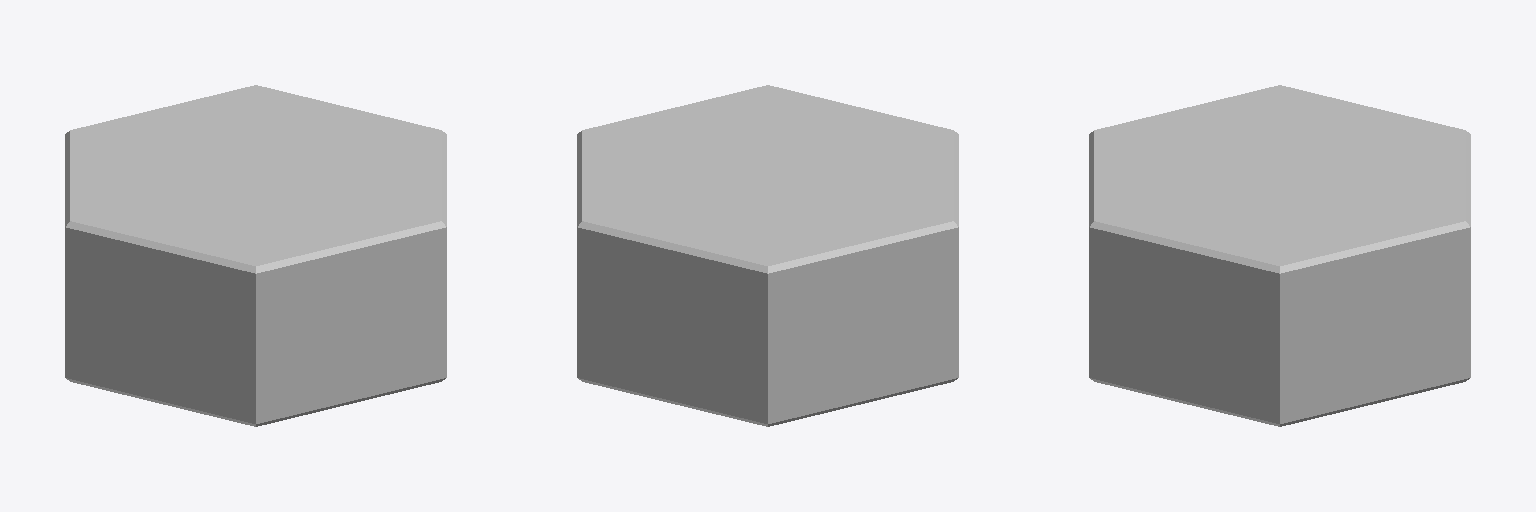
The model's file is Tile00.obj.
3 renders of one model, left to right at view 1: azimuth 30°, elevation 25°; view 2: azimuth 150°, elevation 25°; view 3: azimuth 270°, elevation 25°, orthographic.
Parts seen in each view (by area): view 1: mesh01; view 2: mesh01; view 3: mesh01.
Boxes of the visible parts, <box> form: mesh01: <box>65,85,446,426</box>; mesh01: <box>577,85,958,426</box>; mesh01: <box>1089,85,1470,426</box>.
Size of the model in its own units: 10.88 by 4.38 by 9.42.